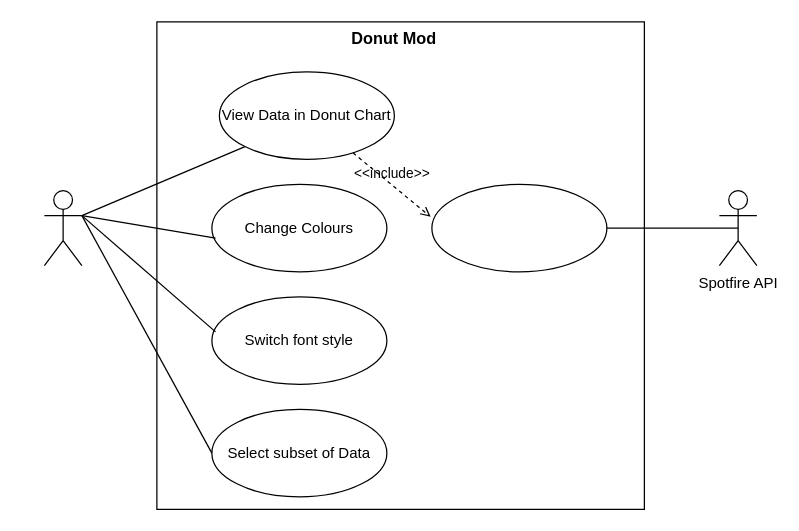
Image size: 799x531. Some labels were removed from this diagram. The shapes that lost their labels are listed below. From the top down, each one's box as (x1, y1, x2, y2) in pixels, then its label:
(43, 189, 82, 266): Data Analyst
(431, 183, 607, 272): Provide dataset
